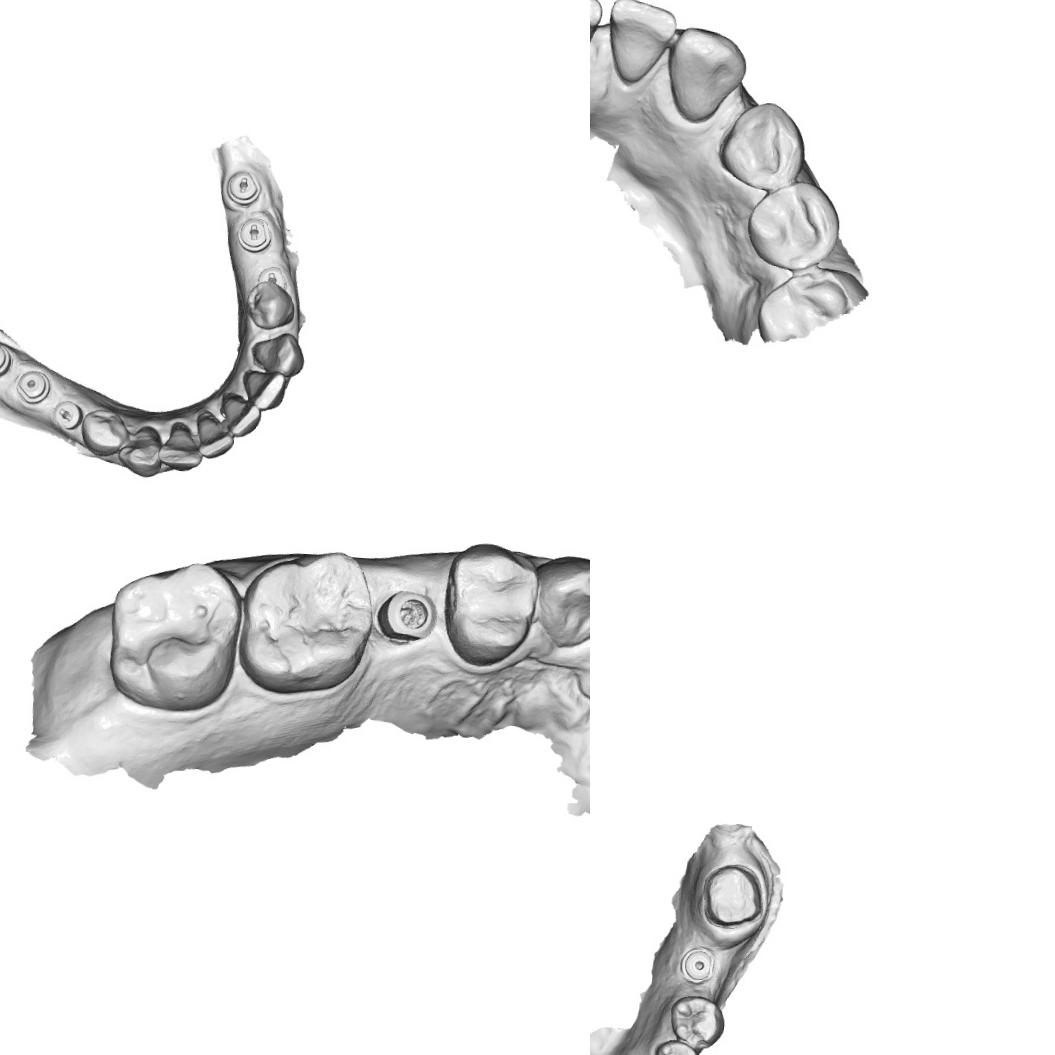canine: (664, 24, 748, 128), (532, 551, 590, 653), (246, 330, 308, 378), (115, 422, 164, 478)
crown: (696, 860, 769, 934)
implant: (378, 582, 442, 650), (676, 944, 717, 986), (14, 366, 51, 404)
implant_minus: (233, 211, 275, 254), (223, 167, 262, 206), (50, 397, 84, 432), (255, 262, 288, 288), (0, 338, 12, 378)
incisor: (602, 0, 678, 89), (155, 424, 203, 472), (216, 392, 264, 438), (239, 368, 286, 412), (192, 414, 236, 460)
molar: (236, 544, 380, 702), (105, 554, 245, 716)
premolar: (433, 538, 541, 671), (742, 175, 843, 277), (717, 98, 810, 197), (664, 990, 726, 1052), (243, 278, 298, 332), (78, 404, 129, 458), (650, 1034, 703, 1055)
